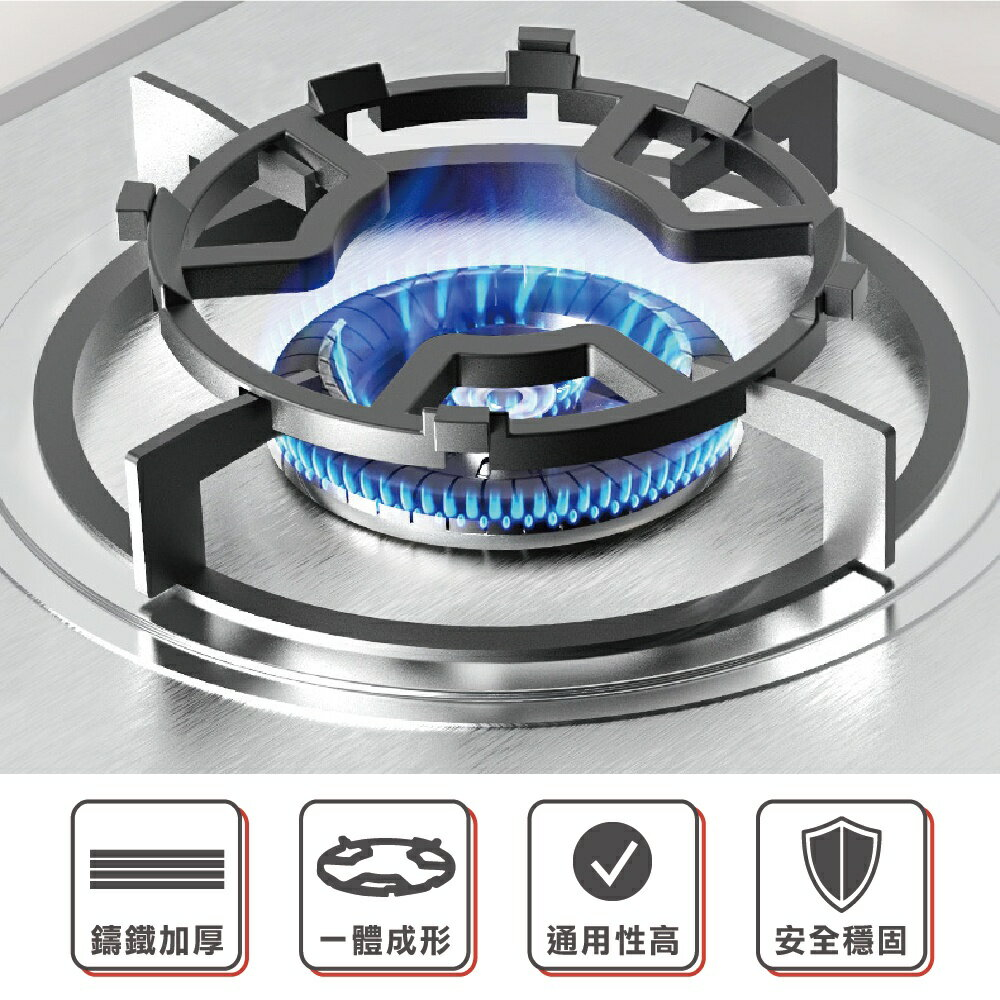gasoven: (9, 17, 993, 738)
